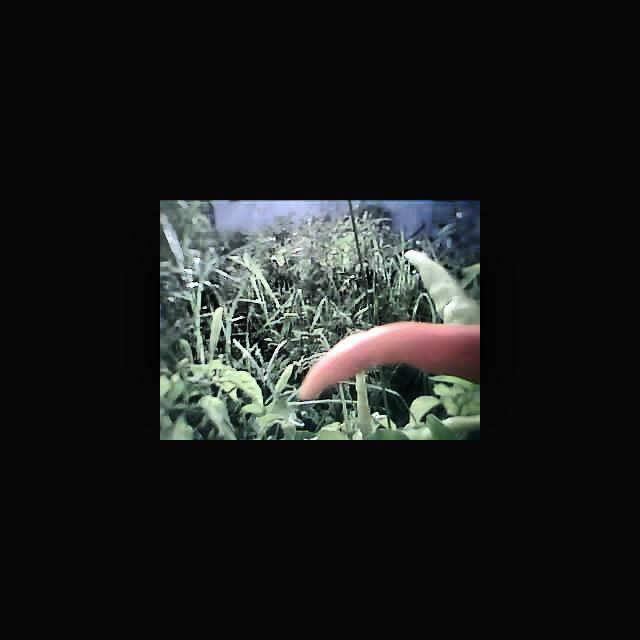Cabai: (302, 317, 480, 388)
